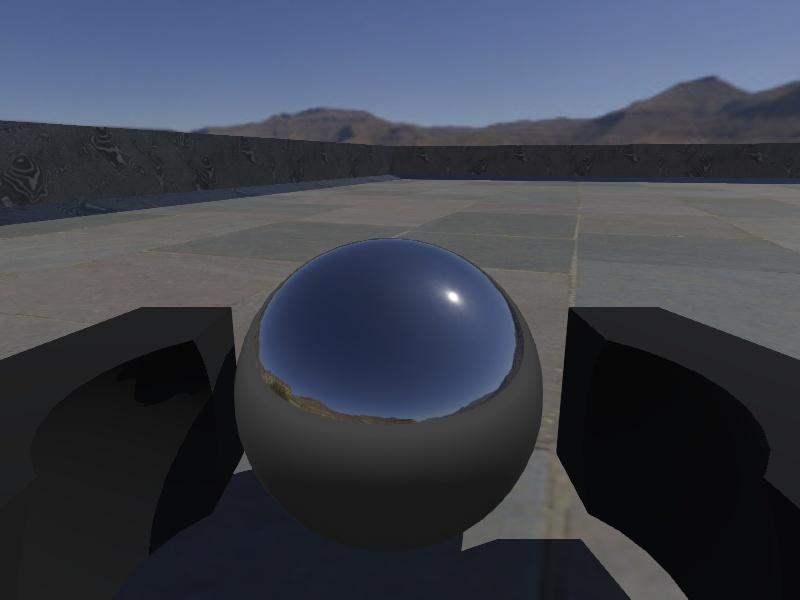steel ball: (233, 237, 544, 554)
